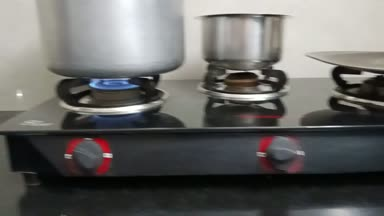flame_gas_off: (203, 61, 311, 173)
flame_gas_on: (51, 70, 159, 189)
